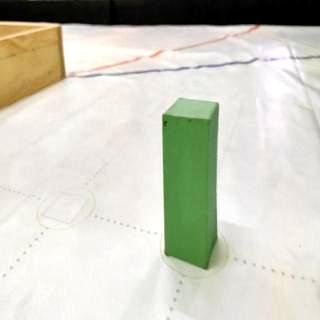greenbox: (160, 94, 220, 270)
